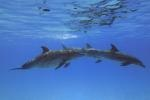fish: (12, 43, 87, 73), (85, 46, 146, 68)
